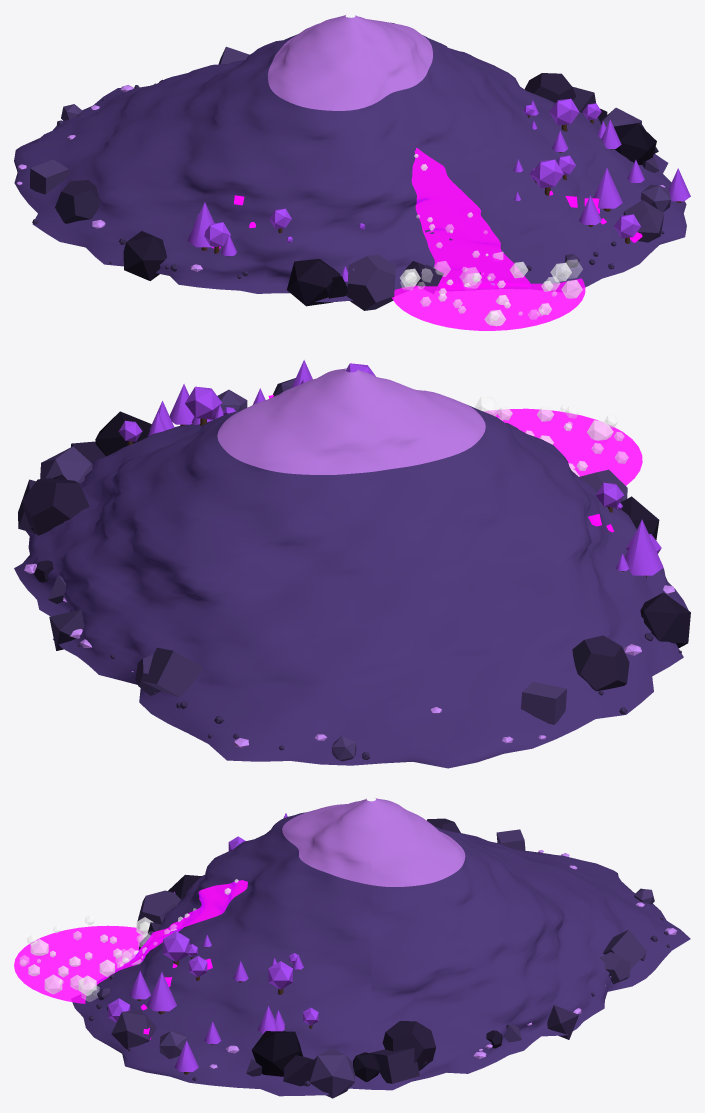
Rendered from montana_6.glb.
The picture shows the model from 3 angles, top to bottom: view 1: azimuth 30°, elevation 25°; view 2: azimuth 150°, elevation 25°; view 3: azimuth 270°, elevation 25°; orthographic projection. The views are drawn at different scales.
Visible parts, largest first — view 1: tierra, cima, rio, poza_agua, copa (×5), roca_13, roca_5, roca_2, roca_24, roca_4, roca_12, roca_21 (+2 smaller); view 2: tierra, cima, poza_agua, roca_12, roca_24, copa (×2), roca_2, roca_23, roca_8, roca_17, roca_4, roca_19 (+1 smaller); view 3: tierra, cima, poza_agua, rio, copa (×3), roca_4, roca_17, roca_12, roca_9, roca_21, roca_13, roca_23 (+6 smaller).
Part boxes in pixels (x1,y1,x2,y2): tierra: [14, 22, 686, 302]; cima: [268, 15, 432, 110]; rio: [411, 148, 530, 285]; poza_agua: [391, 278, 585, 330]; copa (×5): [187, 98, 622, 247]; roca_13: [347, 254, 395, 310]; roca_5: [287, 259, 340, 306]; roca_2: [123, 231, 166, 280]; roca_24: [55, 179, 100, 223]; roca_4: [614, 123, 656, 164]; roca_12: [524, 73, 576, 102]; roca_21: [623, 200, 664, 242]; tierra: [14, 405, 688, 768]; cima: [217, 368, 485, 474]; poza_agua: [484, 408, 642, 485]; roca_12: [22, 478, 89, 535]; roca_24: [572, 635, 629, 691]; copa (×2): [185, 386, 663, 575]; roca_2: [640, 592, 690, 647]; roca_23: [141, 647, 202, 697]; roca_8: [521, 682, 566, 724]; roca_17: [40, 446, 92, 482]; roca_4: [95, 411, 151, 456]; roca_19: [49, 609, 84, 650]; tierra: [72, 812, 690, 1096]; cima: [282, 798, 465, 886]; poza_agua: [14, 925, 144, 1003]; rio: [97, 880, 247, 982]; copa (×3): [147, 931, 292, 1011]; roca_4: [251, 1031, 302, 1076]; roca_17: [309, 1048, 355, 1098]; roca_12: [382, 1021, 435, 1070]; roca_9: [370, 1048, 419, 1083]; roca_21: [111, 1009, 156, 1049]; roca_13: [137, 890, 180, 928]; roca_23: [603, 930, 647, 969].
Size of the model in its own units: 31.88 by 10.83 by 35.99.
